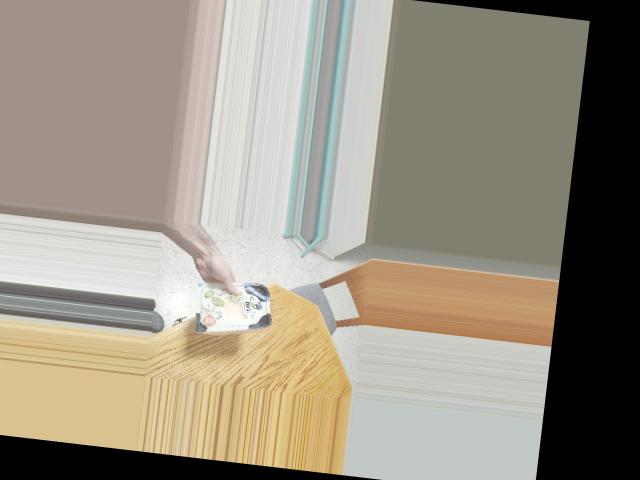cheese: (202, 277, 277, 336)
